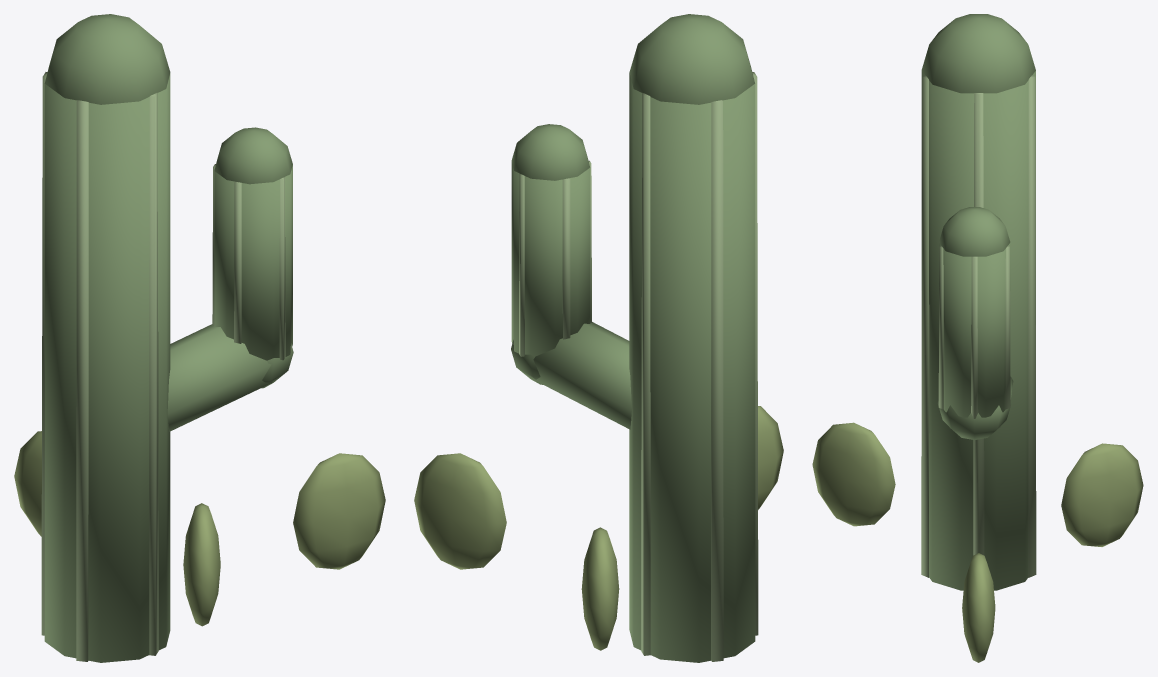
Rendered from v_cactus2.glb.
3 views of the same model, side by side, from view 1: azimuth 30°, elevation 25°; view 2: azimuth 150°, elevation 25°; view 3: azimuth 270°, elevation 25° (orthographic). The views are drawn at different scales.
Parts seen in each view (by area): view 1: Cactus; view 2: Cactus; view 3: Cactus.
Part boxes in pixels (x1,y1,x2,y2): Cactus: (14,14,385,662); Cactus: (414,14,783,662); Cactus: (812,14,1143,662).
Size of what is drawn, in the model's own units: 1.43 by 2.54 by 1.39.
